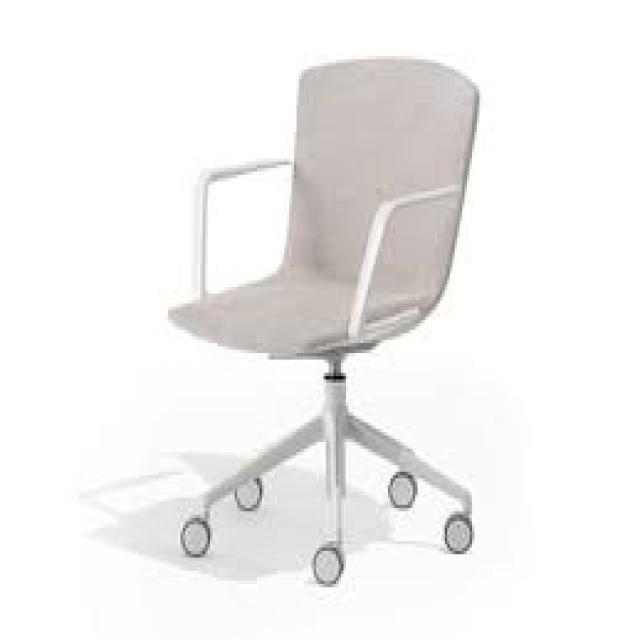chair: (107, 22, 529, 640)
